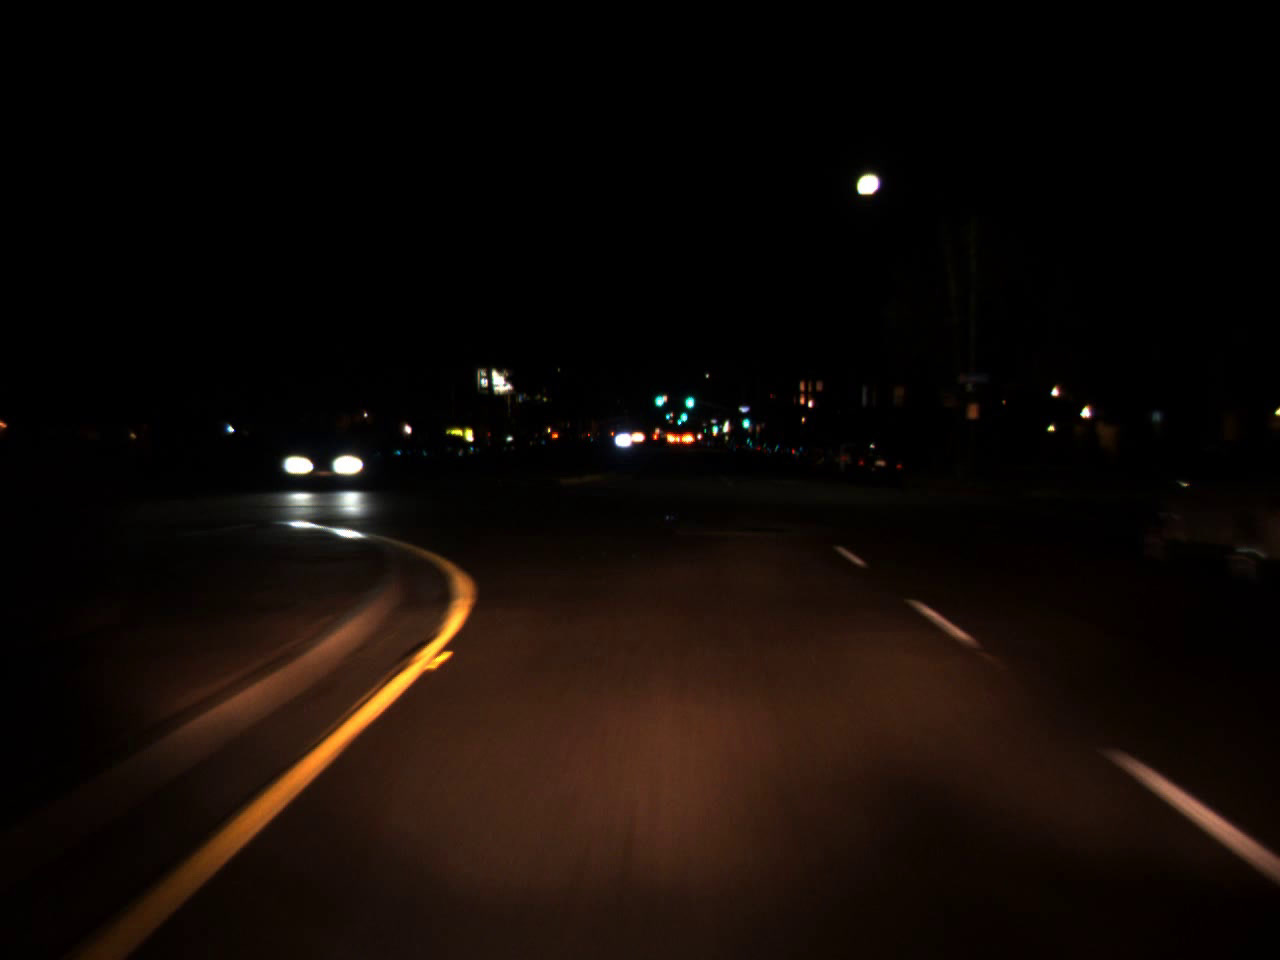go: (682, 383, 696, 413), (653, 383, 663, 410), (676, 402, 688, 423), (671, 409, 683, 427), (741, 414, 750, 426), (711, 418, 718, 433), (663, 409, 670, 421)
